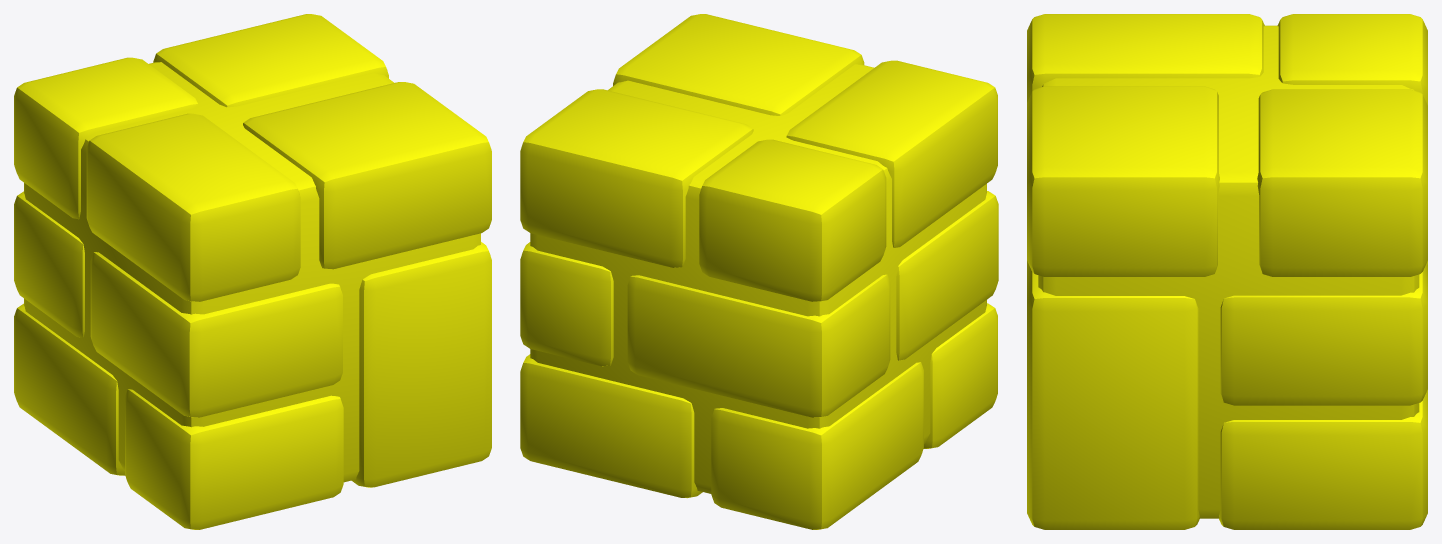
File: Block_GreyBricks.glb
The picture shows the model from 3 angles, left to right: view 1: azimuth 30°, elevation 25°; view 2: azimuth 150°, elevation 25°; view 3: azimuth 270°, elevation 25°; orthographic projection. The views are drawn at different scales.
Parts seen in each view (by area): view 1: Block_GreyBricks; view 2: Block_GreyBricks; view 3: Block_GreyBricks.
Part boxes in pixels (box(x1,y1,x2,y2)): Block_GreyBricks: box(14, 14, 491, 529); Block_GreyBricks: box(520, 14, 998, 529); Block_GreyBricks: box(1027, 14, 1427, 529).
Bounding box in the file's own units: 2.01 × 2.02 × 2.03.
1 material, 1 textured.
